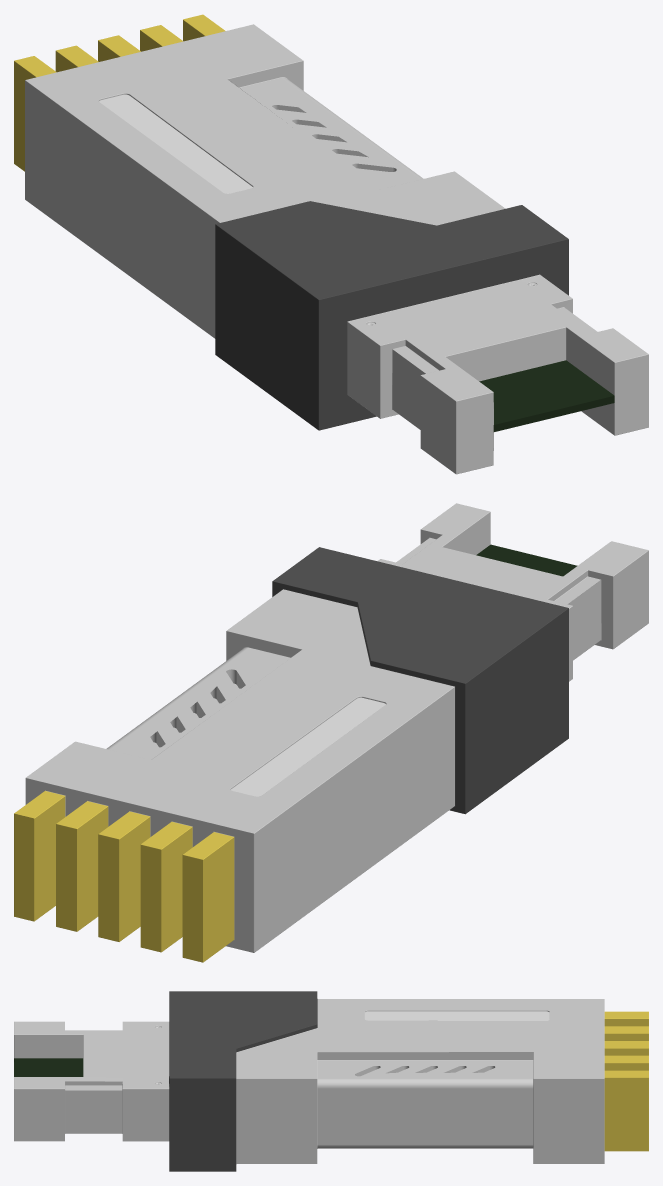
The model's file is Device.fbx.
3 renders of one model, top to bottom at view 1: azimuth 30°, elevation 25°; view 2: azimuth 150°, elevation 25°; view 3: azimuth 270°, elevation 25°, orthographic. The views are drawn at different scales.
Visible parts, largest first — view 1: Cube, Cube.001; view 2: Cube, Cube.001; view 3: Cube, Cube.001.
Boxes of the visible parts, x1,y1,x2,y2 form: Cube: (14, 14, 648, 474); Cube.001: (99, 94, 252, 193); Cube: (14, 503, 648, 962); Cube.001: (231, 697, 385, 796); Cube: (14, 991, 648, 1171); Cube.001: (365, 1011, 549, 1020).
Size of the model in its own units: 720 by 360 by 2215.
